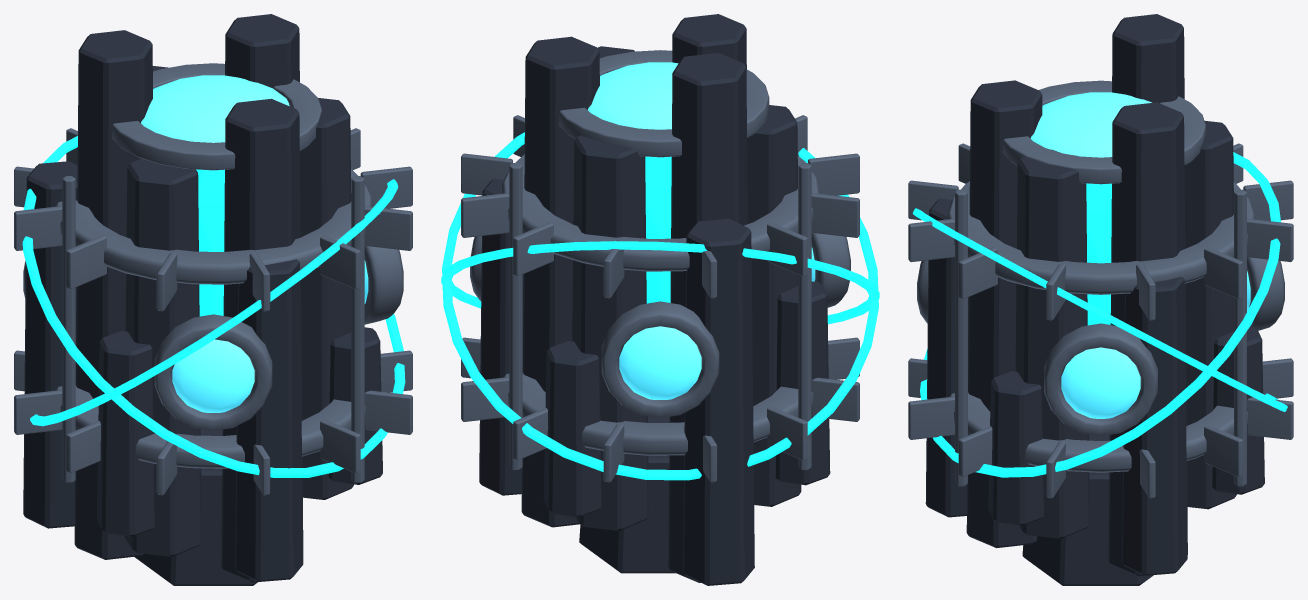
File: relic_cryo_relay.glb
3 renders of one model, left to right at view 1: azimuth 30°, elevation 25°; view 2: azimuth 150°, elevation 25°; view 3: azimuth 270°, elevation 25°, orthographic. The views are drawn at different scales.
Visible parts, largest first — view 1: CryoRelay_Basalt_Spire, CryoRelay_Titanium_Fins, CryoRelay_Aurora_Core, CryoRelay_CryoGlass_Lenses; view 2: CryoRelay_Basalt_Spire, CryoRelay_Titanium_Fins, CryoRelay_Aurora_Core, CryoRelay_CryoGlass_Lenses; view 3: CryoRelay_Basalt_Spire, CryoRelay_Titanium_Fins, CryoRelay_Aurora_Core, CryoRelay_CryoGlass_Lenses.
Part boxes in pixels (x1,y1,x2,y2): CryoRelay_Basalt_Spire: [23, 14, 382, 585]; CryoRelay_Titanium_Fins: [14, 63, 412, 495]; CryoRelay_Aurora_Core: [22, 136, 405, 477]; CryoRelay_CryoGlass_Lenses: [141, 75, 368, 412]; CryoRelay_Basalt_Spire: [479, 14, 830, 585]; CryoRelay_Titanium_Fins: [461, 50, 859, 482]; CryoRelay_Aurora_Core: [441, 132, 879, 480]; CryoRelay_CryoGlass_Lenses: [588, 62, 815, 399]; CryoRelay_Basalt_Spire: [925, 14, 1264, 585]; CryoRelay_Titanium_Fins: [908, 80, 1293, 498]; CryoRelay_Aurora_Core: [913, 152, 1287, 477]; CryoRelay_CryoGlass_Lenses: [1030, 92, 1250, 418].
Bounding box in the file's own units: 1.14 × 1.52 × 1.07.
